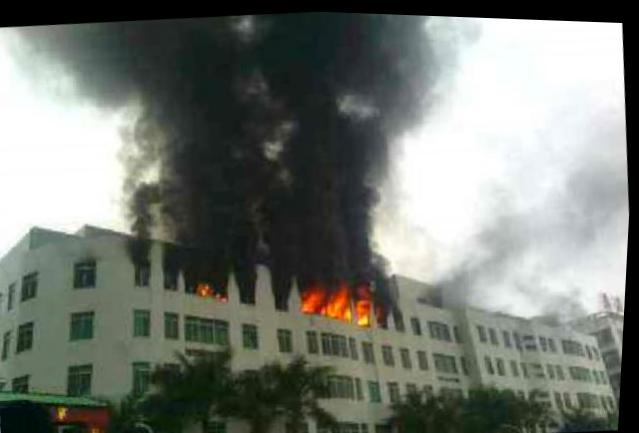fire: (300, 283, 328, 309), (321, 289, 349, 314), (357, 295, 373, 320)
